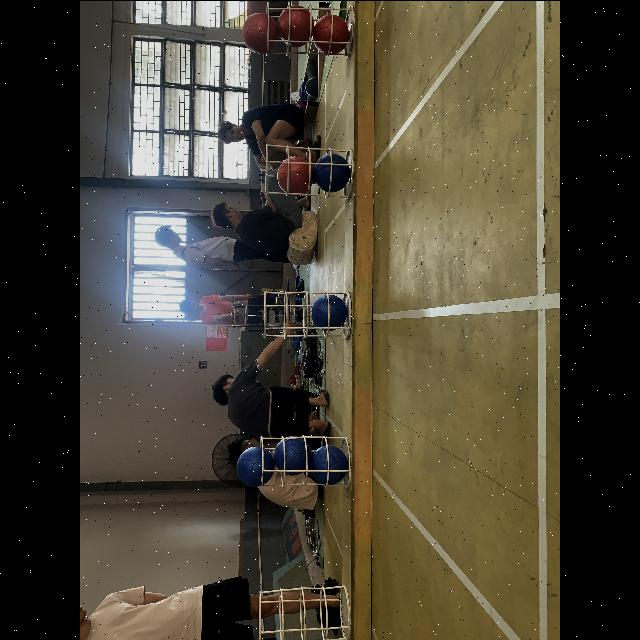B: (236, 446, 274, 486), (274, 434, 312, 474), (314, 152, 352, 192), (313, 444, 349, 486), (311, 294, 347, 328)
R: (278, 3, 314, 45), (242, 11, 278, 53), (278, 155, 312, 193), (314, 14, 348, 52)
